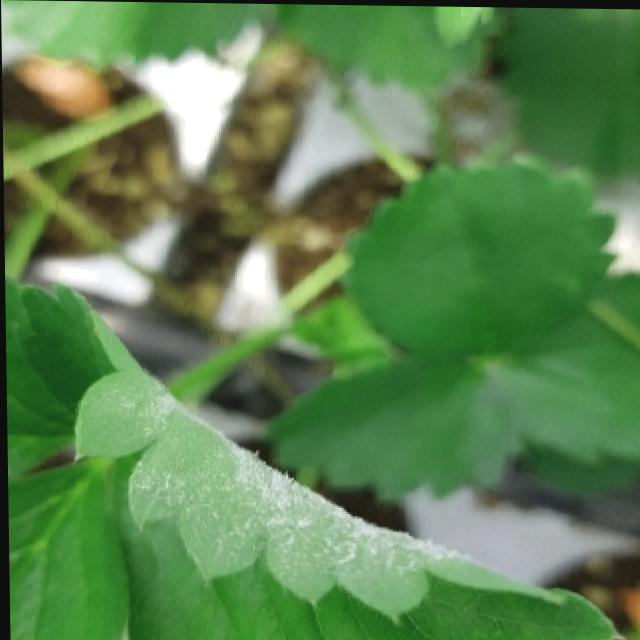Powdery Mildew Leaf: (12, 281, 627, 640)
